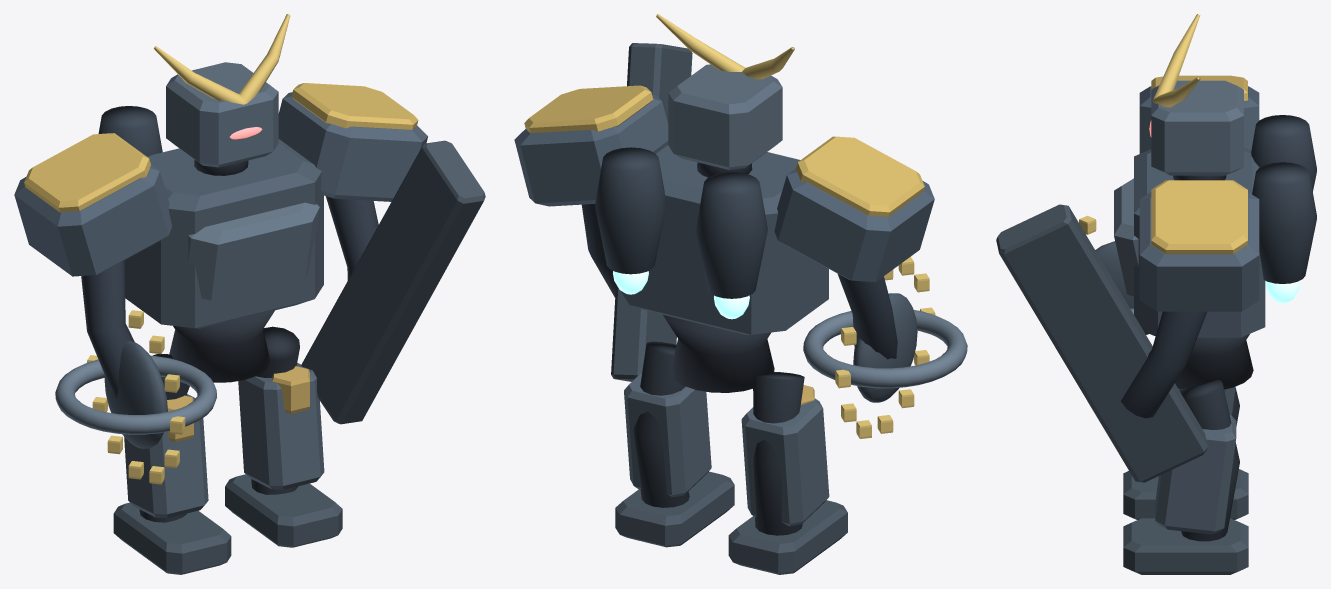
File: ares.glb
The picture shows the model from 3 angles, left to right: view 1: azimuth 30°, elevation 25°; view 2: azimuth 150°, elevation 25°; view 3: azimuth 270°, elevation 25°; orthographic projection. The views are drawn at different scales.
Visible parts, largest first — view 1: Ares_Armor_Hull, Gold_Trim, Hydraulic_Frame, Rotary_Chain_Shield; view 2: Ares_Armor_Hull, Hydraulic_Frame, Gold_Trim, Rotary_Chain_Shield, Plasma_Blade; view 3: Ares_Armor_Hull, Hydraulic_Frame, Gold_Trim, Rotary_Chain_Shield, Plasma_Blade.
Boxes of the visible parts, x1=… form: Ares_Armor_Hull: x1=14, y1=62, x2=485, y2=574; Gold_Trim: x1=24, y1=14, x2=418, y2=442; Hydraulic_Frame: x1=81, y1=160, x2=378, y2=522; Rotary_Chain_Shield: x1=55, y1=310, x2=216, y2=484; Ares_Armor_Hull: x1=514, y1=43, x2=934, y2=574; Hydraulic_Frame: x1=581, y1=162, x2=897, y2=535; Gold_Trim: x1=524, y1=14, x2=924, y2=404; Rotary_Chain_Shield: x1=803, y1=256, x2=967, y2=438; Plasma_Blade: x1=613, y1=271, x2=749, y2=319; Ares_Armor_Hull: x1=996, y1=80, x2=1316, y2=574; Hydraulic_Frame: x1=1120, y1=175, x2=1253, y2=541; Gold_Trim: x1=1151, y1=14, x2=1247, y2=254; Rotary_Chain_Shield: x1=1079, y1=215, x2=1148, y2=334; Plasma_Blade: x1=1265, y1=281, x2=1299, y2=303.
Size of the model in its own units: 4.4 by 5.59 by 3.32.
